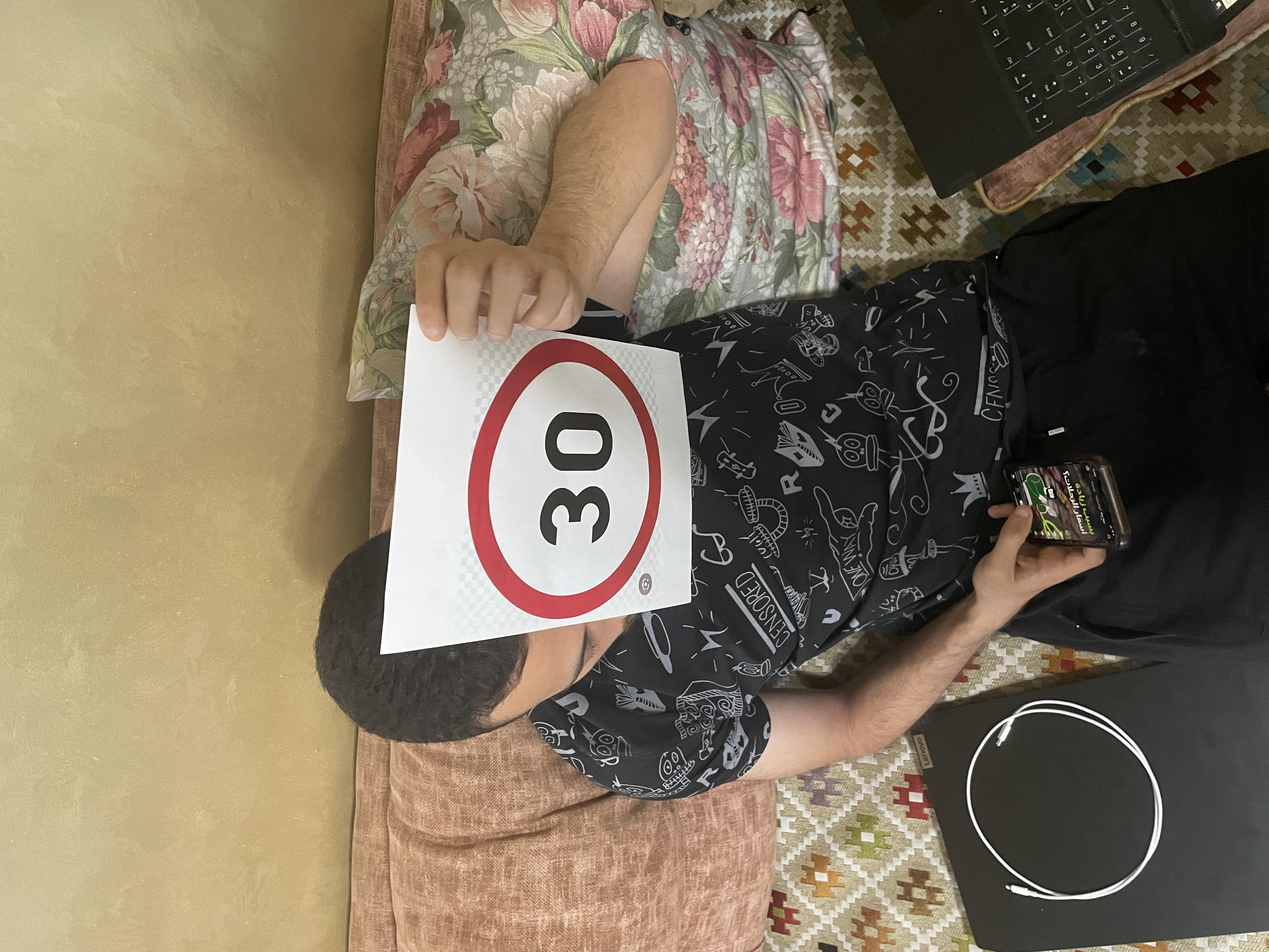30-speed: (439, 352, 836, 502)
